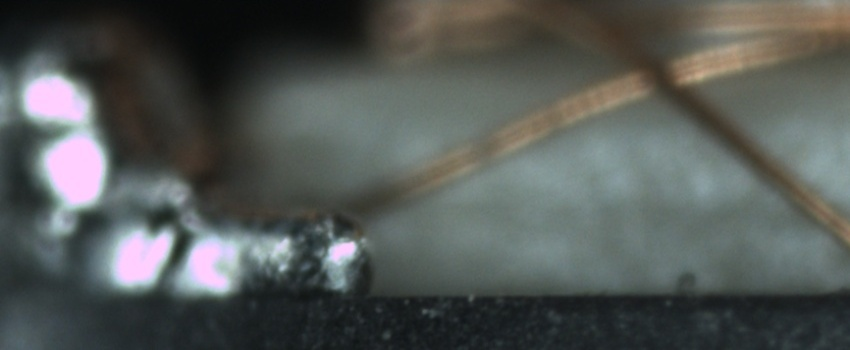CL: (619, 38, 707, 110)
DL: (426, 186, 833, 261)
